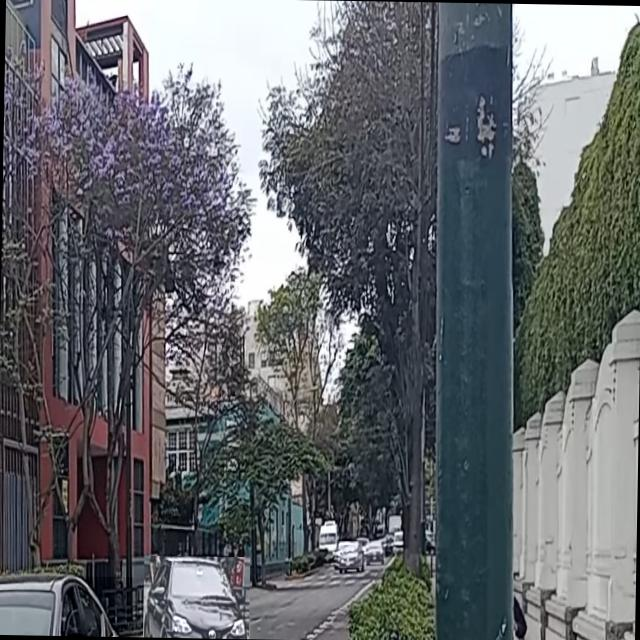car: (143, 555, 250, 639), (0, 574, 133, 636), (338, 540, 362, 568), (363, 540, 385, 564)
